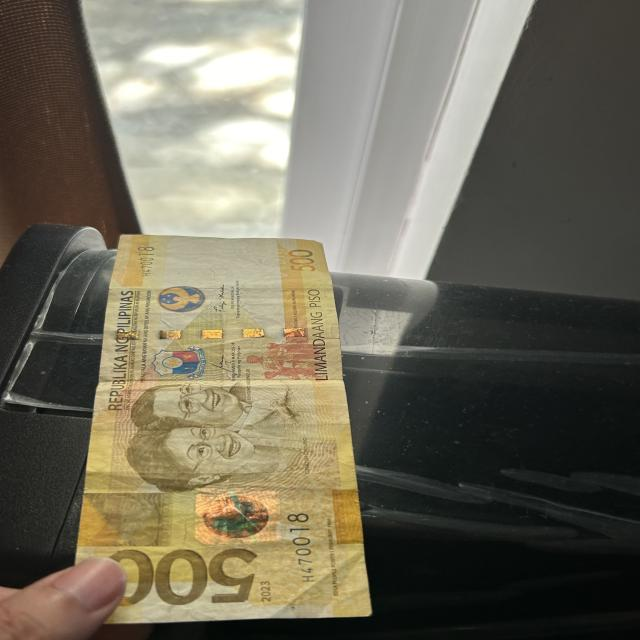concealed_value: (80, 496, 176, 547)
optically_variable_device: (200, 495, 274, 538)
